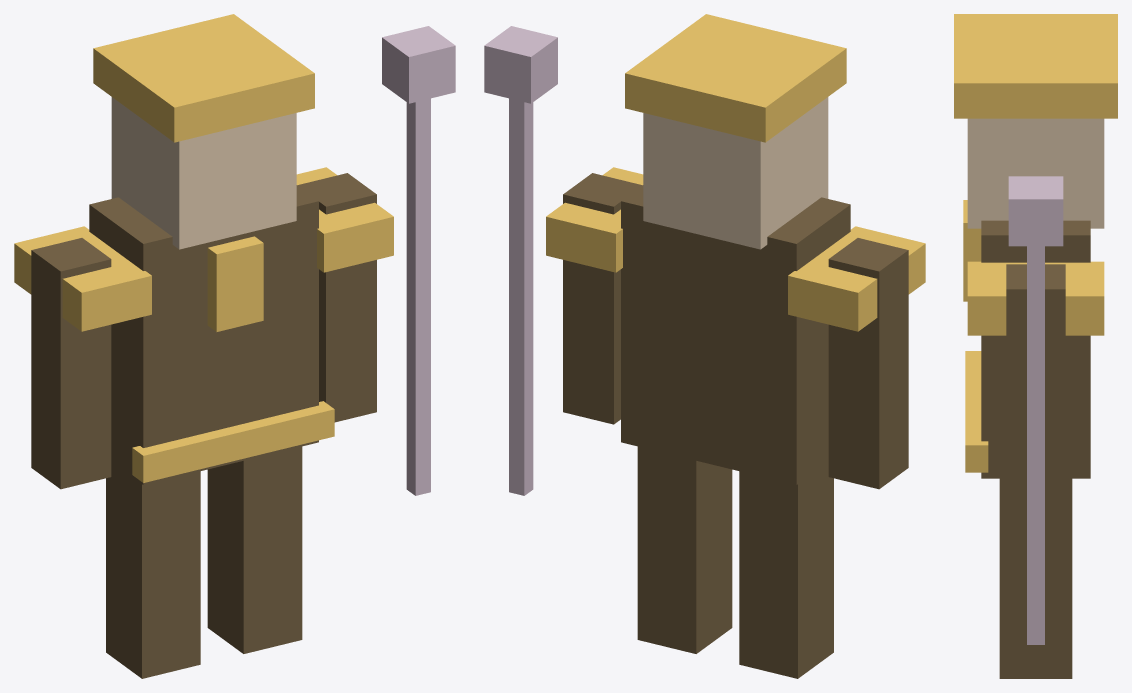
File: 05_bryn_rootborne_runner_from_adaptive.glb
3 renders of one model, left to right at view 1: azimuth 30°, elevation 25°; view 2: azimuth 150°, elevation 25°; view 3: azimuth 270°, elevation 25°, orthographic.
Visible parts, largest first — view 1: Bryn Rootborne, Runner from Adaptive; view 2: Bryn Rootborne, Runner from Adaptive; view 3: Bryn Rootborne, Runner from Adaptive.
Part boxes in pixels (x1,y1,x2,y2): Bryn Rootborne, Runner from Adaptive: (14,14,455,678); Bryn Rootborne, Runner from Adaptive: (484,14,925,678); Bryn Rootborne, Runner from Adaptive: (954,14,1117,678).
Size of the model in its own units: 1.1 by 1.56 by 0.3911.
